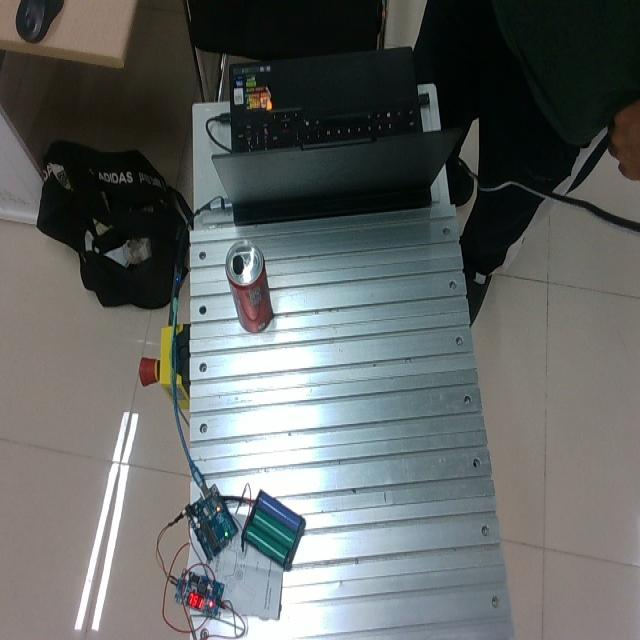coca: (224, 240, 273, 332)
